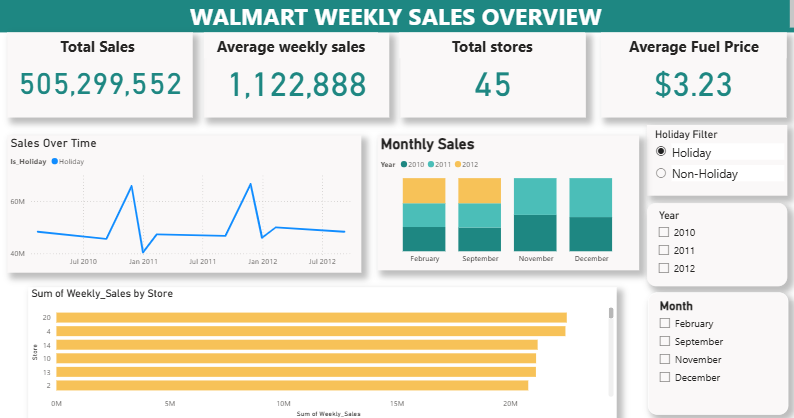

This screenshot's page, from the dashboard's own definition file:
{"tool":"powerbi","page":{"name":"Page 1","canvas":[1280,720],"ordinal":0},"visuals":[{"type":"card","fields":{"Values":["Avg(walmart_salesdata walmart_sales_cleaned.Weekly_Sales)"]},"box":[327.8,99.1,297.2,136.9],"z":0},{"type":"card","fields":{"Values":["Count(walmart_salesdata walmart_sales_cleaned.Store)"]},"box":[643.1,99.1,297.2,136.9],"z":1000},{"type":"card","fields":{"Values":["Avg(walmart_salesdata walmart_sales_cleaned.Fuel_Price)"]},"box":[965.5,99.1,297.2,136.9],"z":2000},{"type":"slicer","fields":{"Values":["walmart_salesdata walmart_sales_cleaned.Is_Holiday"]},"box":[1037.6,246.8,225.2,113.5],"z":3000},{"type":"textbox","box":[0,0,1280.7,55.8],"z":4000},{"type":"card","fields":{"Values":["Sum(walmart_salesdata walmart_sales_cleaned.Weekly_Sales)"]},"box":[12.6,99.1,297.2,136.9],"z":5000},{"type":"textbox","box":[77.5,99.1,162.1,41.4],"z":6000},{"type":"textbox","box":[327.8,99.1,279.2,41.4],"z":7000},{"type":"textbox","box":[641.3,99.1,297.2,41.4],"z":8000},{"type":"textbox","box":[965.5,99.1,297.2,41.4],"z":9000},{"type":"lineChart","title":"Sales Over Time","fields":{"Category":["walmart_salesdata walmart_sales_cleaned.Date"],"Y":["Sum(walmart_salesdata walmart_sales_cleaned.Weekly_Sales)"],"Series":["walmart_salesdata walmart_sales_cleaned.Is_Holiday"]},"box":[12.6,263,567.4,219.8],"z":10000},{"type":"hundredPercentStackedColumnChart","title":"Monthly Sales","fields":{"Category":["walmart_salesdata walmart_sales_cleaned.MonthName"],"Y":["Avg(walmart_salesdata walmart_sales_cleaned.Weekly_Sales)"],"Series":["walmart_salesdata walmart_sales_cleaned.Year"]},"box":[607,263,419.7,216.2],"z":11000},{"type":"clusteredBarChart","fields":{"Category":["walmart_salesdata walmart_sales_cleaned.Store"],"Y":["Sum(walmart_salesdata walmart_sales_cleaned.Weekly_Sales)"]},"box":[46.7,506.7,943.3,213.3],"z":12000},{"type":"slicer","fields":{"Values":["walmart_salesdata walmart_sales_cleaned.Year"]},"box":[1037.6,371.1,225.2,133.3],"z":13000},{"type":"slicer","fields":{"Values":["walmart_salesdata walmart_sales_cleaned.MonthName"]},"box":[1039.4,515.2,225.2,196.3],"z":14000}]}

Visuals, with their boxes on the page's 1280x720 design canvas (x1, y1, x2, y2). These are canvas units, not pixel positions in the 794x418 screenshot, which may show the page scaled, cropped or inside an application window:
card - Avg(walmart_salesdata walmart_sales_cleaned.Weekly_Sales): bbox=[328, 99, 625, 236]
card - Count(walmart_salesdata walmart_sales_cleaned.Store): bbox=[643, 99, 940, 236]
card - Avg(walmart_salesdata walmart_sales_cleaned.Fuel_Price): bbox=[966, 99, 1263, 236]
slicer - walmart_salesdata walmart_sales_cleaned.Is_Holiday: bbox=[1038, 247, 1263, 360]
textbox: bbox=[0, 0, 1281, 56]
card - Sum(walmart_salesdata walmart_sales_cleaned.Weekly_Sales): bbox=[13, 99, 310, 236]
textbox: bbox=[78, 99, 240, 140]
textbox: bbox=[328, 99, 607, 140]
textbox: bbox=[641, 99, 938, 140]
textbox: bbox=[966, 99, 1263, 140]
"Sales Over Time" lineChart: bbox=[13, 263, 580, 483]
"Monthly Sales" hundredPercentStackedColumnChart: bbox=[607, 263, 1027, 479]
clusteredBarChart - walmart_salesdata walmart_sales_cleaned.Store x Sum(walmart_salesdata walmart_sales_cleaned.Weekly_Sales): bbox=[47, 507, 990, 720]
slicer - walmart_salesdata walmart_sales_cleaned.Year: bbox=[1038, 371, 1263, 504]
slicer - walmart_salesdata walmart_sales_cleaned.MonthName: bbox=[1039, 515, 1265, 712]
